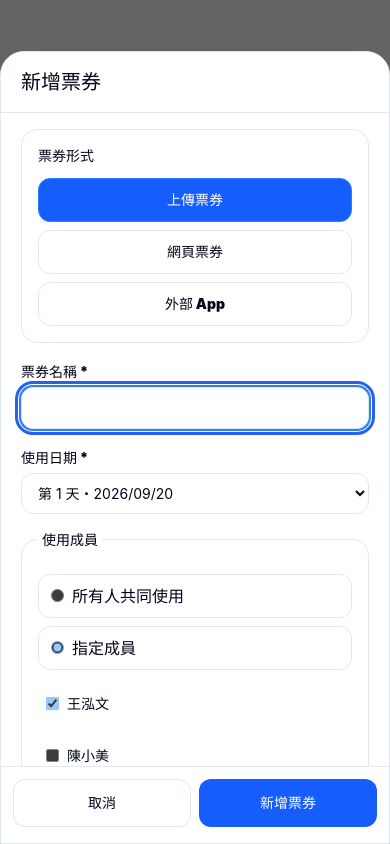
it: TicketEditorModal progressive form › EDITOR-06 requires a file for attachment create
Type "圖片票券" into the field with test id "ticket-title-input" at (195, 408), box [21,387,369,429]
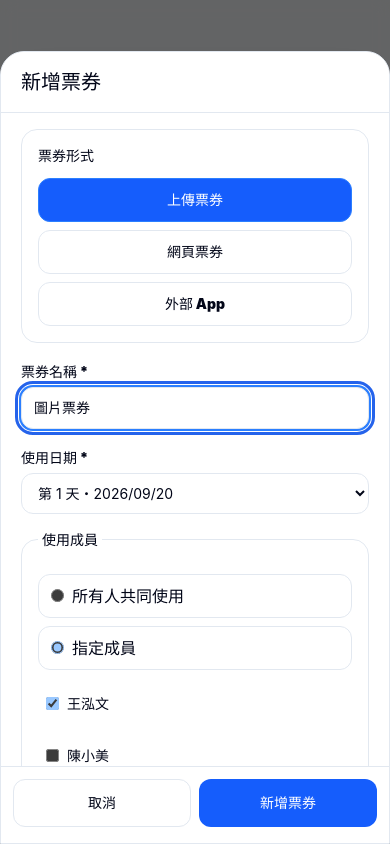
Click the button with test id "ticket-submit-button" at (288, 803), box [199,779,377,827]
(page scrolled)
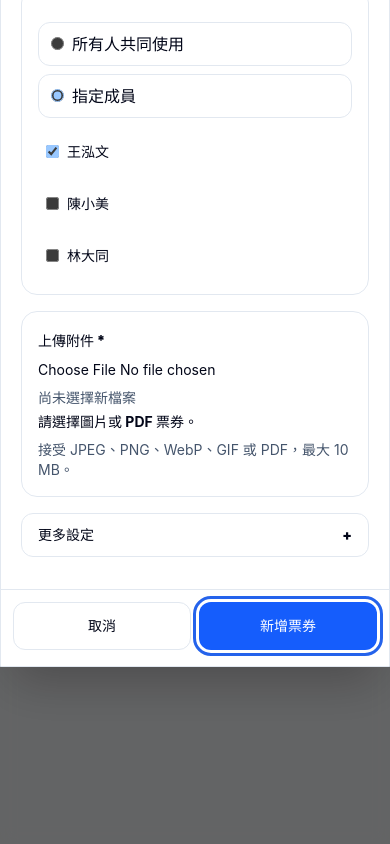
expect the text "請選擇圖片或 PDF 票券。" is shown: met, box [38,413,198,430]
